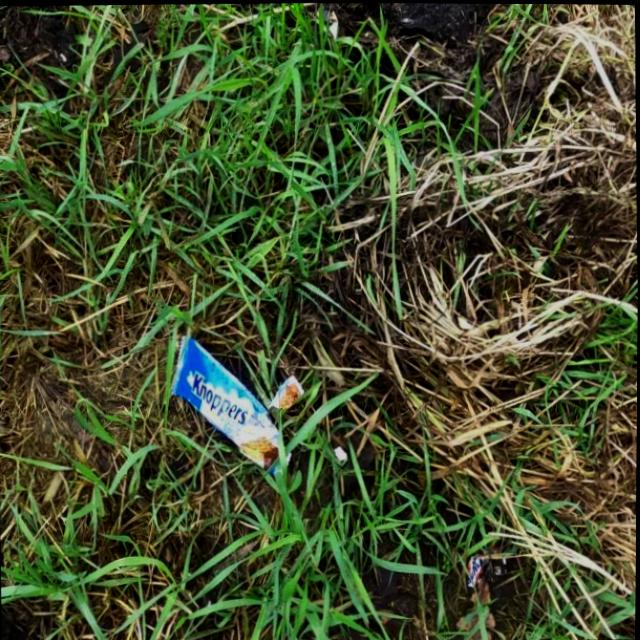Plastic: (168, 330, 308, 480), (467, 544, 508, 587)
